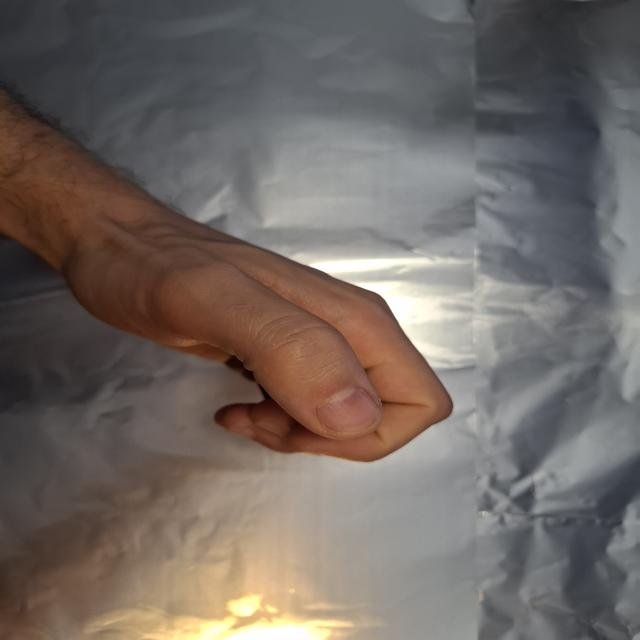glove_off: (51, 185, 456, 466)
